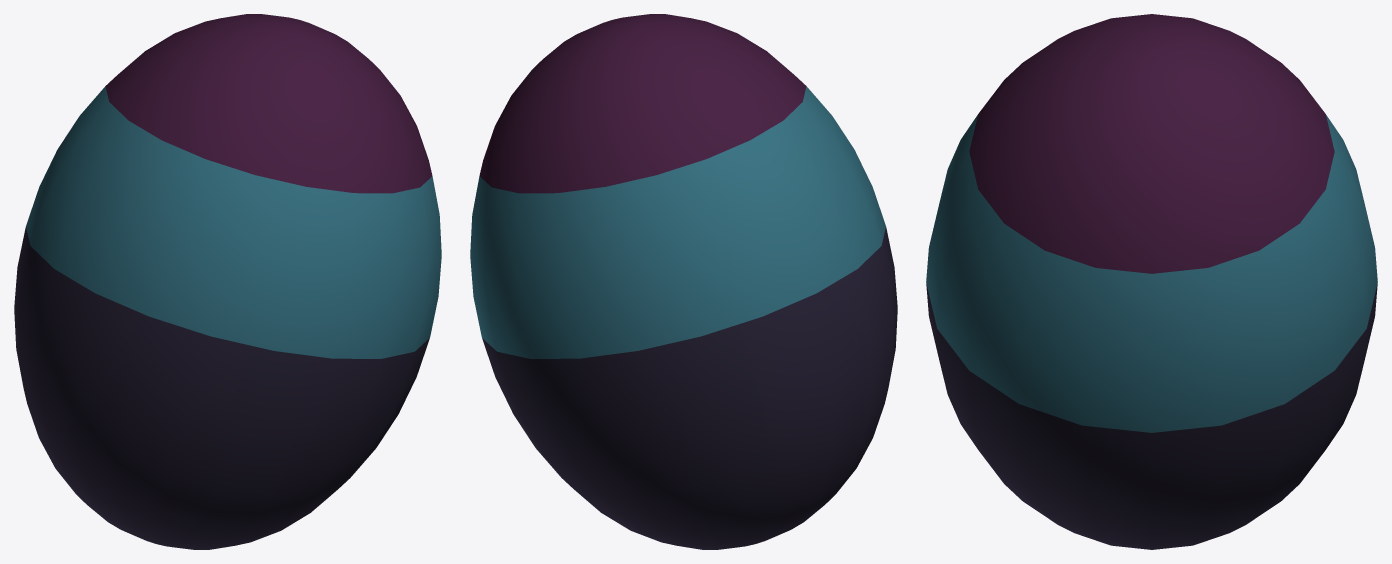
The model's file is oeuf.fbx.
3 renders of one model, left to right at view 1: azimuth 30°, elevation 25°; view 2: azimuth 150°, elevation 25°; view 3: azimuth 270°, elevation 25°, orthographic. The views are drawn at different scales.
Visible parts, largest first — view 1: oeuf1; view 2: oeuf1; view 3: oeuf1.
Boxes of the visible parts, bbox=[...] form: oeuf1: bbox=[14, 14, 441, 549]; oeuf1: bbox=[470, 14, 897, 549]; oeuf1: bbox=[926, 14, 1377, 549].
Size of the model in its own units: 13 by 16.33 by 12.64.
